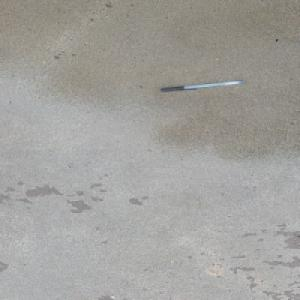Pen: (159, 79, 245, 92)
